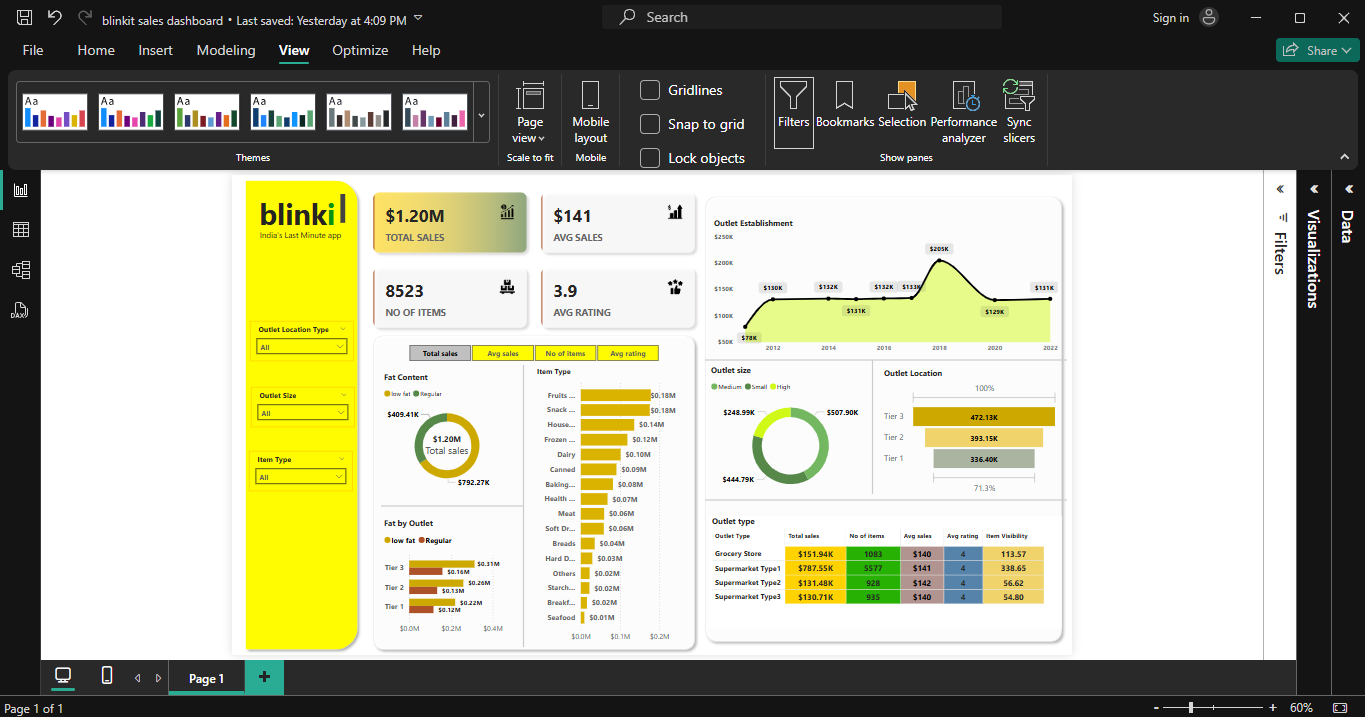

What the dashboard file says about the page in this screenshot:
{"tool":"powerbi","page":{"name":"Page 1","canvas":[1400,800],"ordinal":0},"visuals":[{"type":"shape","box":[13.3,0,205,800],"z":0},{"type":"textbox","box":[31.7,26.7,161.7,88.3],"z":1000},{"type":"textbox","box":[35,86.7,158.3,28.3],"z":2000},{"type":"cardVisual","fields":{"Data":["BlinkIT Grocery Data.Total sales","BlinkIT Grocery Data.Avg sales","BlinkIT Grocery Data.No of items","BlinkIT Grocery Data.Avg rating"]},"box":[218.3,11.7,570,261.7],"z":3000},{"type":"shape","box":[226.7,258.3,553.3,541.7],"z":4000},{"type":"donutChart","title":"Fat Content","fields":{"Y":["BlinkIT Grocery Data.Total sales"],"Category":["BlinkIT Grocery Data.Item Fat Content"]},"box":[248.3,328.3,220,201.7],"z":5000},{"type":"slicer","fields":{"Values":["MATRIX.MATRIX"]},"box":[270,276.7,465,40],"z":6000},{"type":"cardVisual","fields":{"Data":["BlinkIT Grocery Data.Total sales"]},"box":[295,413.3,126.7,71.7],"z":7000},{"type":"clusteredBarChart","title":"Fat by Outlet ","fields":{"Y":["BlinkIT Grocery Data.Total sales"],"Category":["BlinkIT Grocery Data.Outlet Location Type"],"Series":["BlinkIT Grocery Data.Item Fat Content"]},"box":[248.3,571.7,220,201.7],"z":8000},{"type":"shape","box":[248.3,460,238.3,183.3],"z":9000},{"type":"shape","box":[440,316.7,91.7,470],"z":10000},{"type":"barChart","title":" Item Type","fields":{"Y":["BlinkIT Grocery Data.Total sales"],"Category":["BlinkIT Grocery Data.Item Type"]},"box":[503.3,318.3,258.3,468.3],"z":11000},{"type":"shape","box":[780,26.7,611.7,760],"z":12000},{"type":"lineChart","title":" Outlet Establishment ","fields":{"Category":["BlinkIT Grocery Data.Outlet Establishment Year"],"Y":["BlinkIT Grocery Data.Total sales"]},"box":[798.3,71.7,583.3,235],"z":13000},{"type":"shape","box":[788.3,216.7,603.3,183.3],"z":14000},{"type":"donutChart","title":"Outlet size","fields":{"Category":["BlinkIT Grocery Data.Outlet Size"],"Y":["BlinkIT Grocery Data.Total sales"]},"box":[793.3,316.7,275,225],"z":15000},{"type":"shape","box":[1021.7,308.3,91.7,223.3],"z":16000},{"type":"funnel","title":" Outlet Location ","fields":{"Y":["Sum(BlinkIT Grocery Data.Sales)"],"Category":["BlinkIT Grocery Data.Outlet Location Type"]},"box":[1081.7,321.7,300,215],"z":17000},{"type":"shape","box":[788.3,450,603.3,183.3],"z":18000},{"type":"pivotTable","title":"Outlet type","fields":{"Rows":["BlinkIT Grocery Data.Outlet Type"],"Values":["BlinkIT Grocery Data.Total sales","BlinkIT Grocery Data.No of items","BlinkIT Grocery Data.Avg sales","BlinkIT Grocery Data.Avg rating","Sum(BlinkIT Grocery Data.Item Visibility)"]},"box":[795,568.3,588.3,188.3],"z":19000},{"type":"slicer","fields":{"Values":["BlinkIT Grocery Data.Outlet Location Type"]},"box":[30,243.3,173.3,66.7],"z":20000},{"type":"slicer","fields":{"Values":["BlinkIT Grocery Data.Outlet Size"]},"box":[31.7,353.3,173.3,66.7],"z":21000},{"type":"slicer","fields":{"Values":["BlinkIT Grocery Data.Item Type"]},"box":[28.3,460,173.3,66.7],"z":22000}]}

Visuals, with their boxes on the page's 1400x800 design canvas (x1, y1, x2, y2). These are canvas units, not pixel positions in the 1365x717 screenshot, which may show the page scaled, cropped or inside an application window:
shape: crop(13, 0, 218, 800)
textbox: crop(32, 27, 193, 115)
textbox: crop(35, 87, 193, 115)
cardVisual - BlinkIT Grocery Data.Total sales x BlinkIT Grocery Data.Avg sales: crop(218, 12, 788, 273)
shape: crop(227, 258, 780, 800)
"Fat Content" donutChart: crop(248, 328, 468, 530)
slicer - MATRIX.MATRIX: crop(270, 277, 735, 317)
cardVisual - BlinkIT Grocery Data.Total sales: crop(295, 413, 422, 485)
"Fat by Outlet " clusteredBarChart: crop(248, 572, 468, 773)
shape: crop(248, 460, 487, 643)
shape: crop(440, 317, 532, 787)
" Item Type" barChart: crop(503, 318, 762, 787)
shape: crop(780, 27, 1392, 787)
" Outlet Establishment " lineChart: crop(798, 72, 1382, 307)
shape: crop(788, 217, 1392, 400)
"Outlet size" donutChart: crop(793, 317, 1068, 542)
shape: crop(1022, 308, 1113, 532)
" Outlet Location " funnel: crop(1082, 322, 1382, 537)
shape: crop(788, 450, 1392, 633)
"Outlet type" pivotTable: crop(795, 568, 1383, 757)
slicer - BlinkIT Grocery Data.Outlet Location Type: crop(30, 243, 203, 310)
slicer - BlinkIT Grocery Data.Outlet Size: crop(32, 353, 205, 420)
slicer - BlinkIT Grocery Data.Item Type: crop(28, 460, 202, 527)
